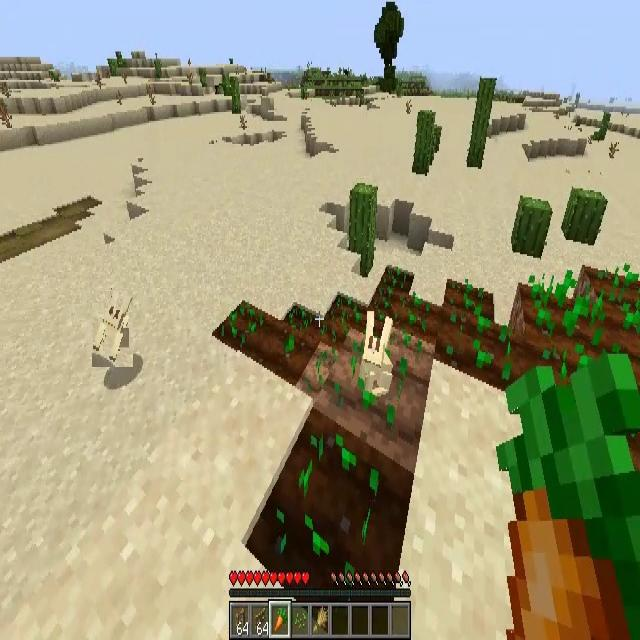rabbit: (92, 292, 133, 368), (362, 313, 394, 400)
